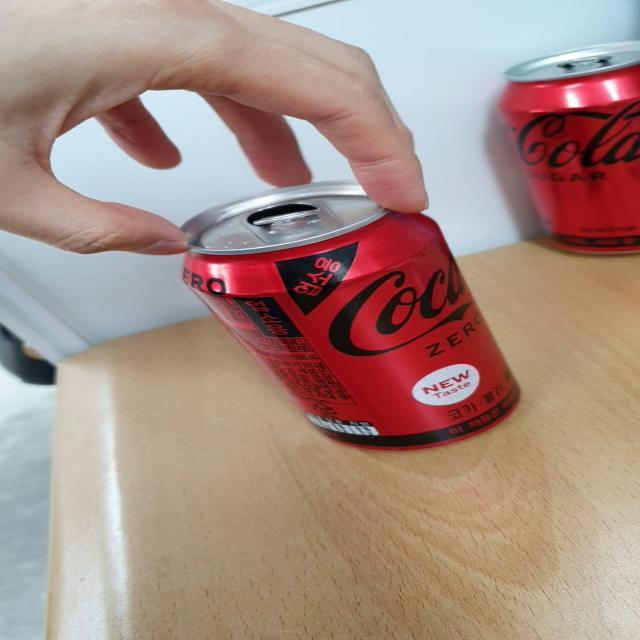coca-cola: (168, 162, 536, 452), (495, 39, 640, 259)
